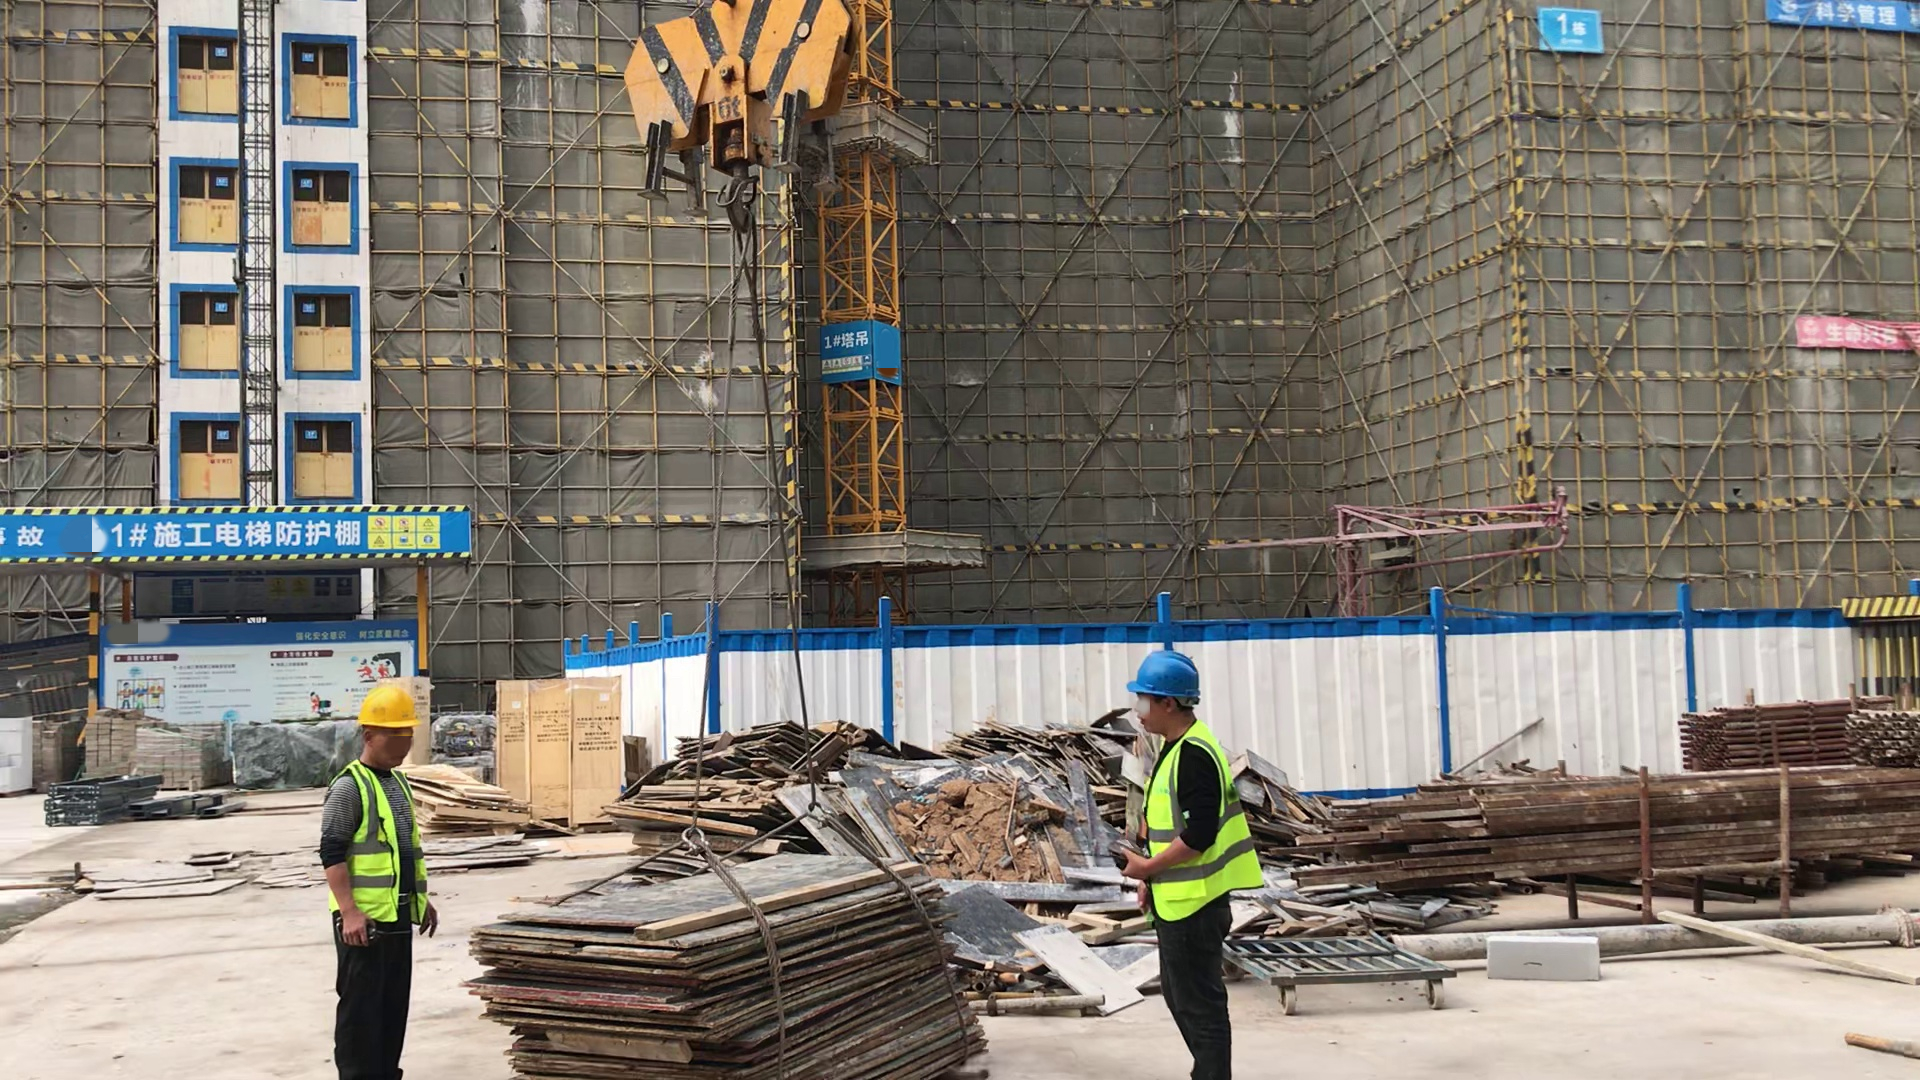board: (466, 850, 995, 1080)
brick: (1, 716, 32, 795)
helmet: (1127, 646, 1201, 704), (354, 677, 419, 729)
hook: (621, 6, 862, 234)
person: (1114, 649, 1260, 1080), (319, 669, 446, 1080)
slogan: (1770, 1, 1920, 27), (1798, 317, 1920, 346), (363, 512, 447, 549), (820, 355, 870, 377)
vest: (1143, 723, 1261, 922), (327, 760, 432, 932)
